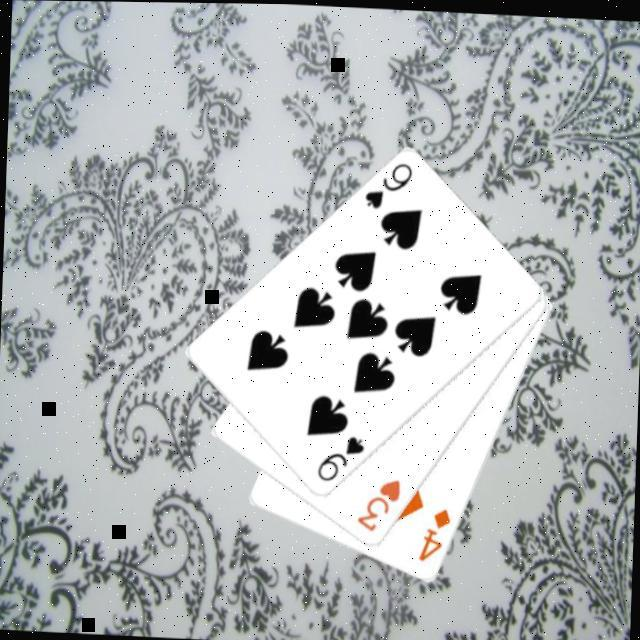3H: (351, 471, 402, 534)
4D: (413, 501, 453, 562)
9S: (359, 154, 413, 211), (312, 428, 366, 483)
